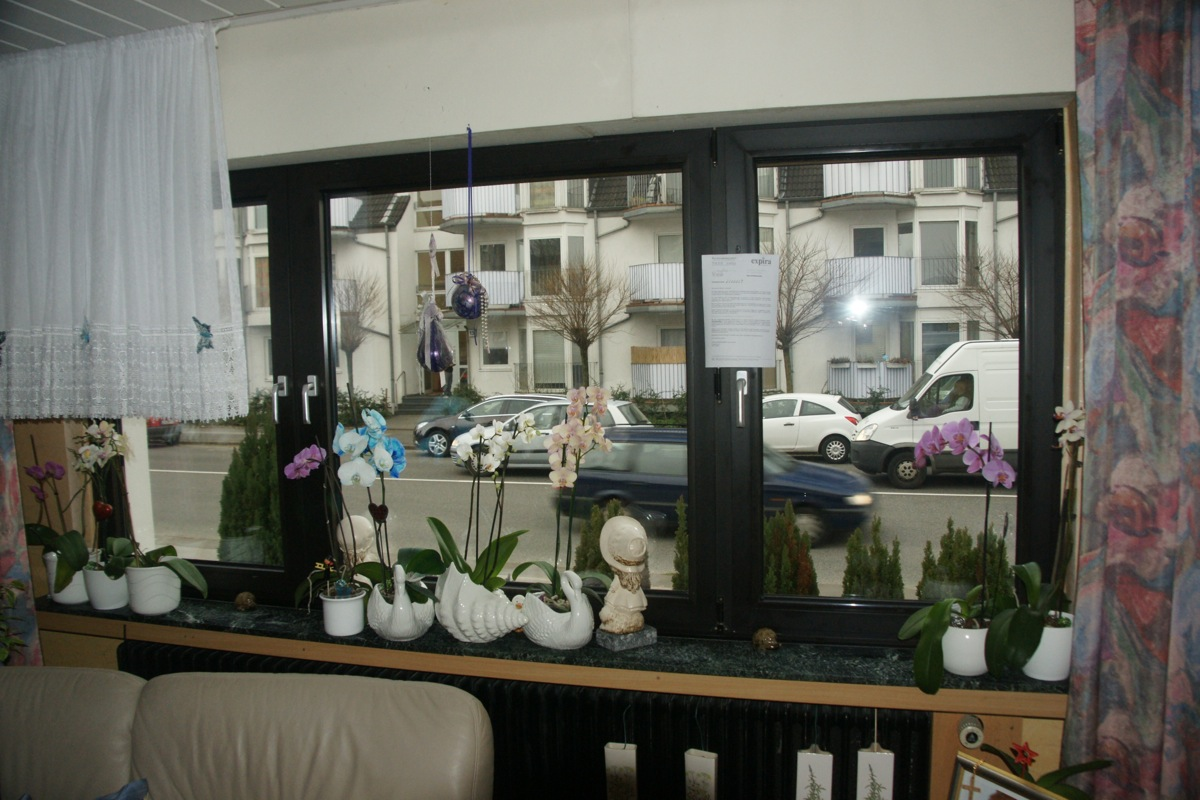windows: (130, 168, 1055, 665)
